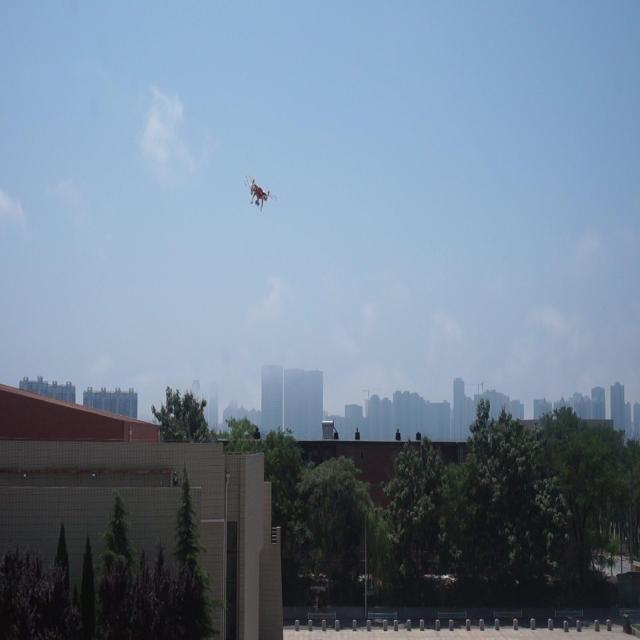drone: (242, 170, 278, 218)
